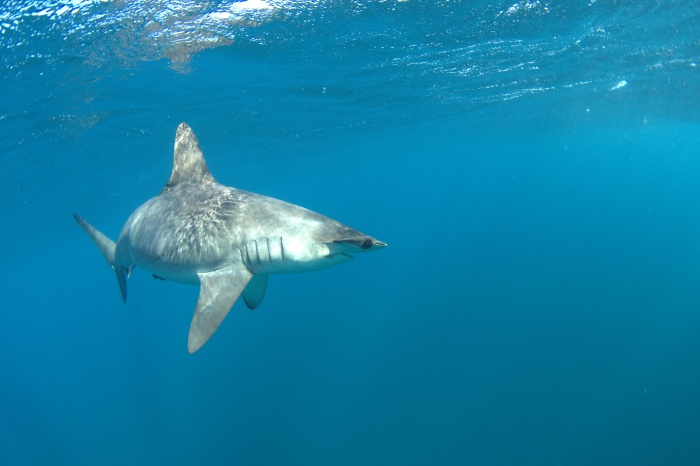Hammer: (64, 122, 425, 384)
